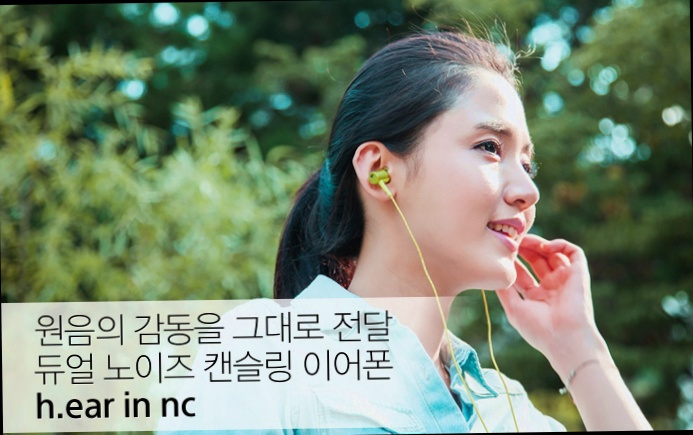earphone: (352, 140, 400, 202)
